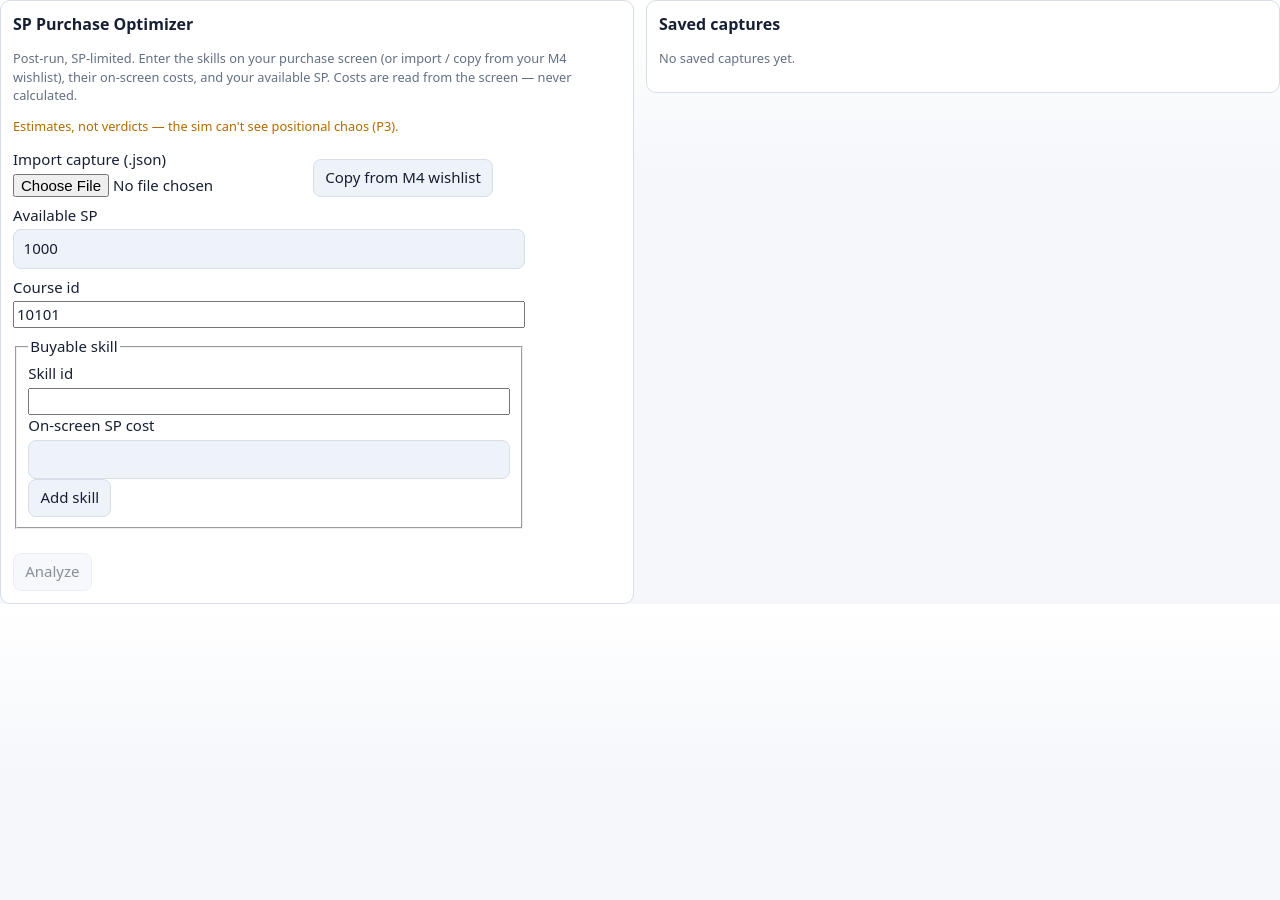
Test: SpOptimizerPage › seeds the form from the M4 wishlist and can Analyze
Click the button "Copy from M4 wishlist".
click(403, 178)  # box [313, 159, 493, 197]
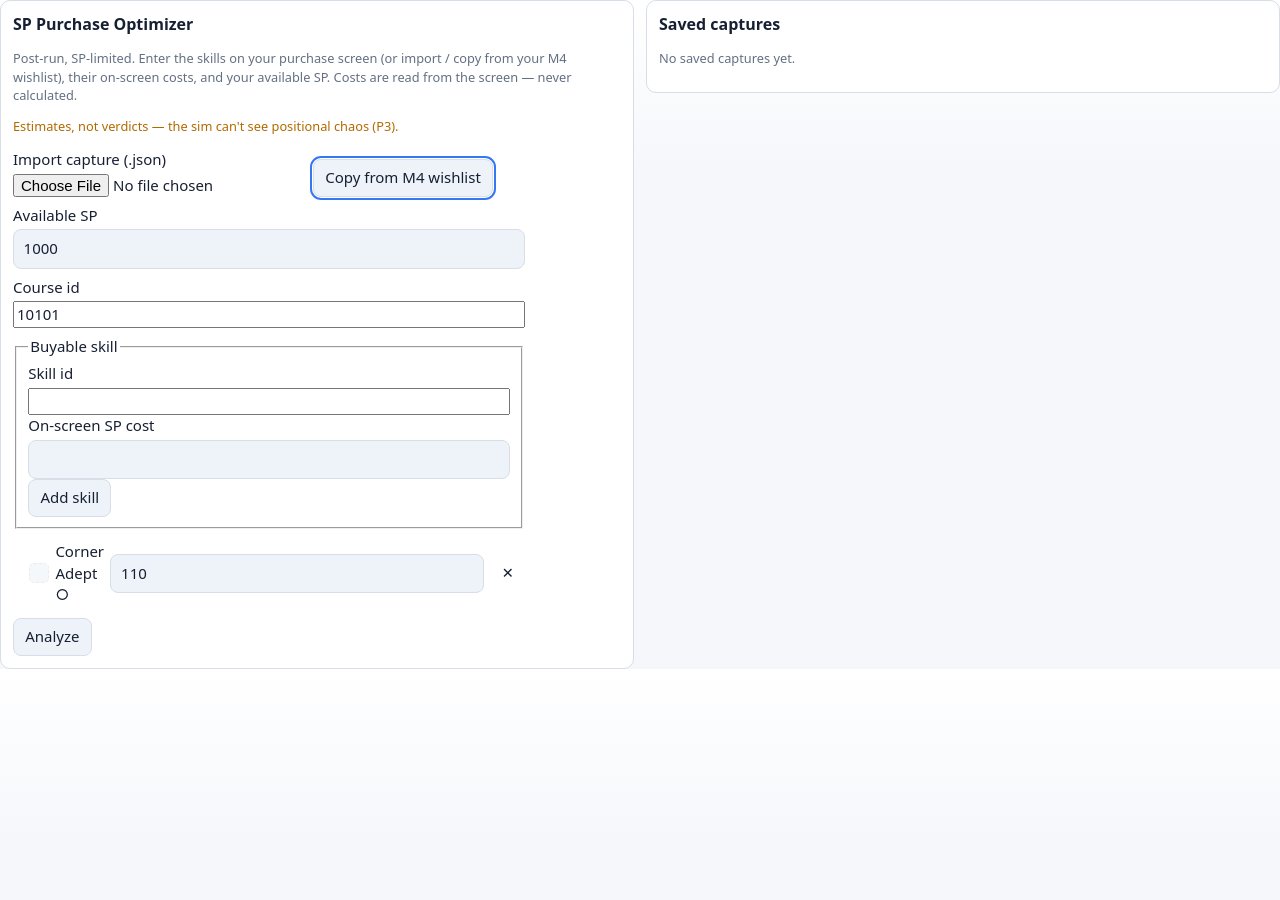
Click the button "Analyze".
click(52, 637)  # box [13, 618, 92, 656]
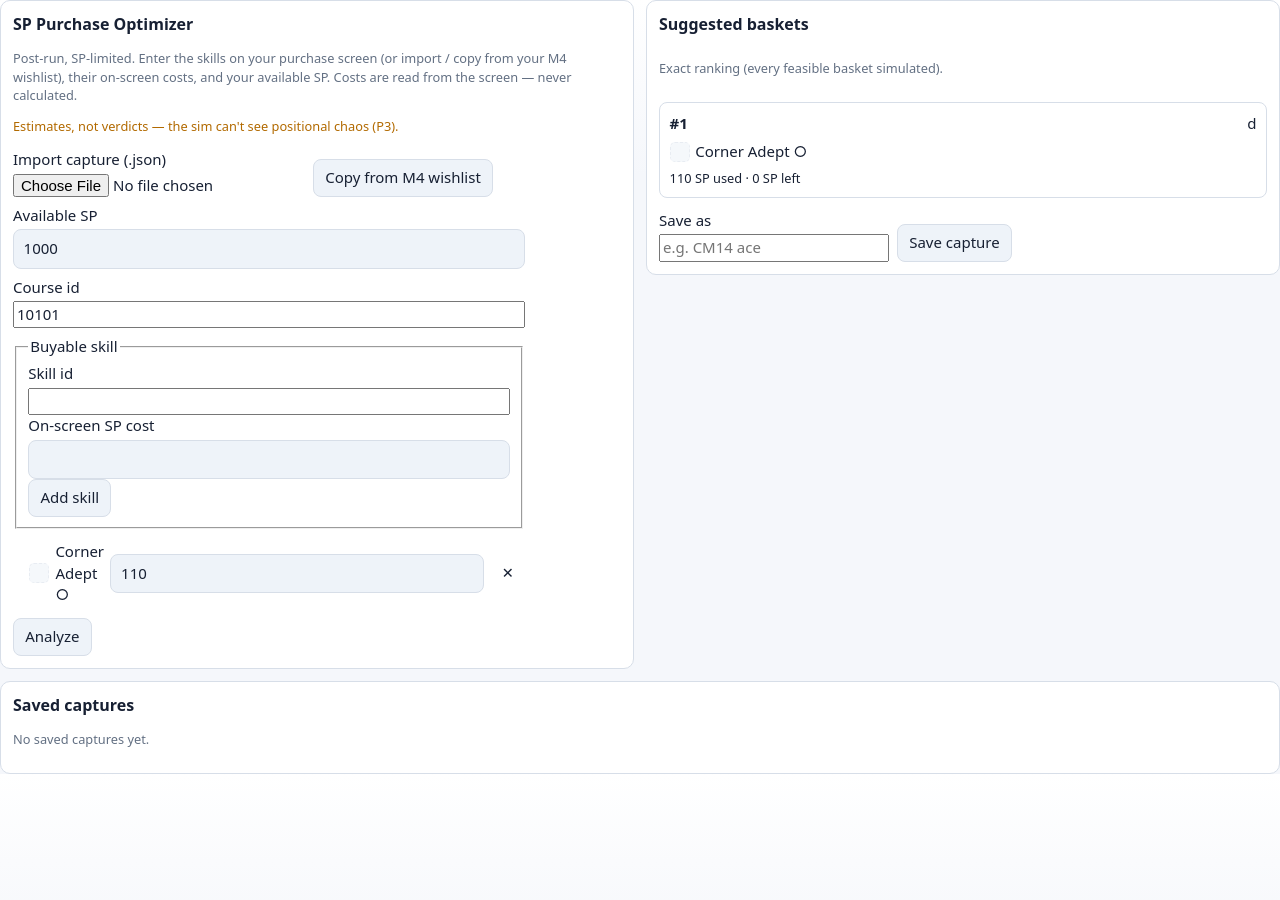
expect the heading "Suggested baskets" is shown: met, box [659, 13, 809, 35]
